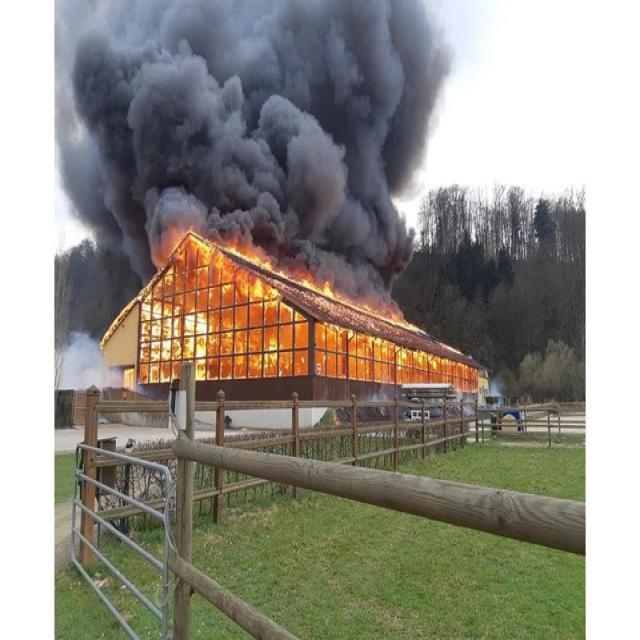Fire: (140, 304, 492, 402), (139, 234, 332, 302), (122, 367, 134, 395)
Smoke: (140, 0, 457, 229), (54, 6, 136, 295), (334, 232, 414, 298), (53, 329, 121, 396)
